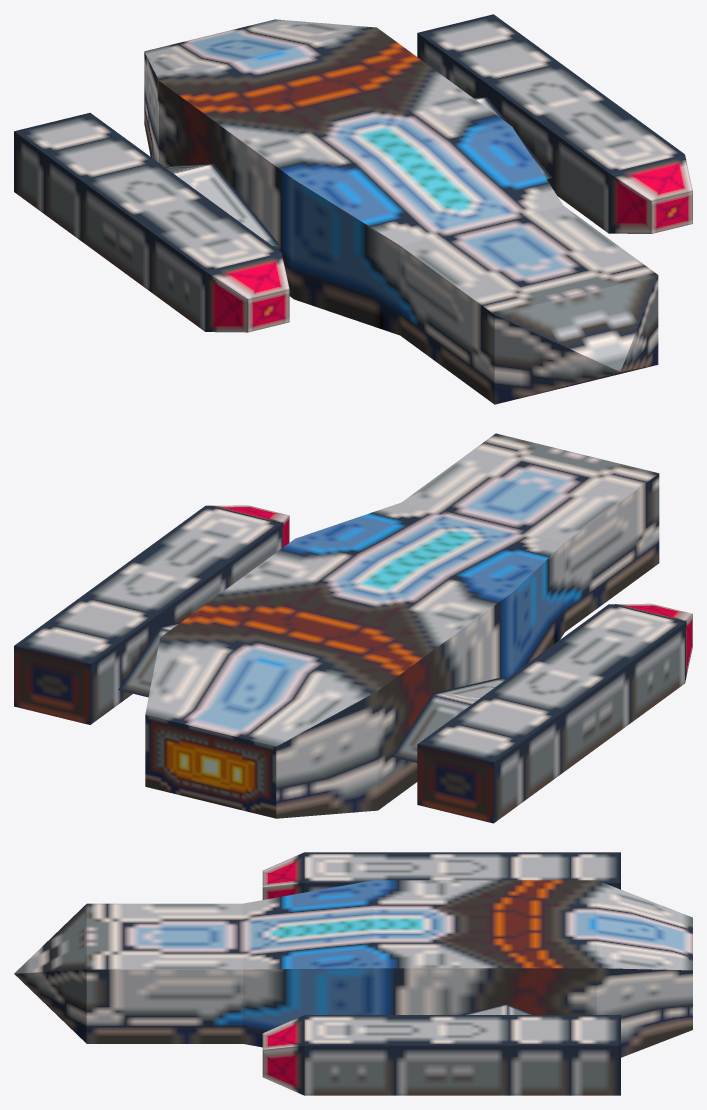
Rendered from shippy1.obj.
3 renders of one model, top to bottom at view 1: azimuth 30°, elevation 25°; view 2: azimuth 150°, elevation 25°; view 3: azimuth 270°, elevation 25°, orthographic. The views are drawn at different scales.
Parts seen in each view (by area): view 1: Shippy; view 2: Shippy; view 3: Shippy.
Part boxes in pixels (x1,y1,x2,y2): Shippy: [14, 14, 692, 404]; Shippy: [14, 433, 692, 823]; Shippy: [14, 852, 692, 1095].
Bounding box in the file's own units: 5.86 × 1.4 × 8.7.
